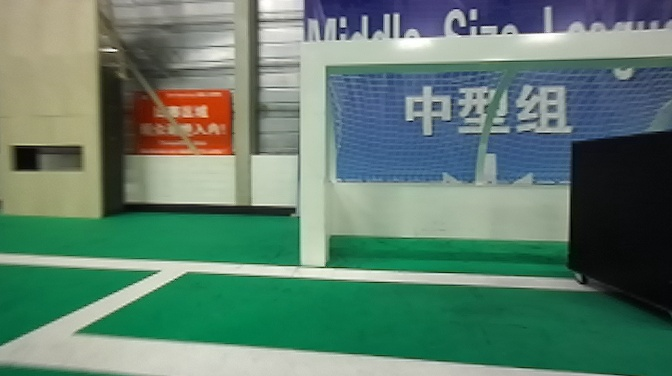goalpost: (302, 44, 328, 275)
